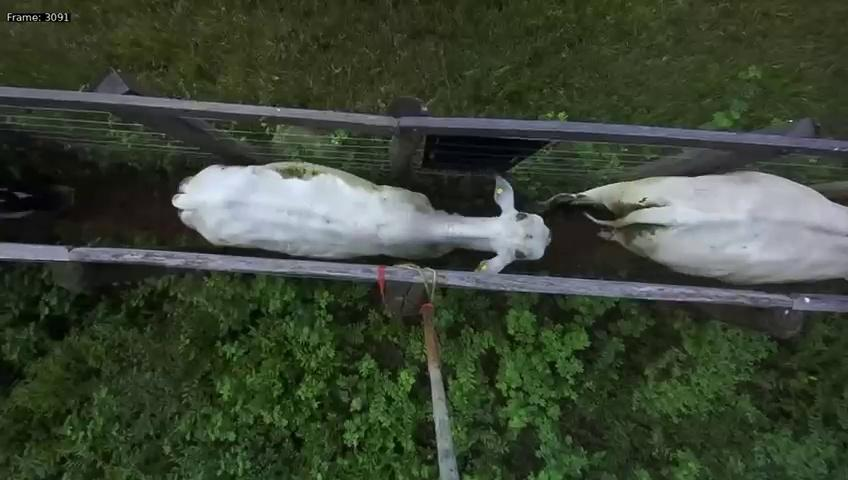cattle: (169, 158, 552, 273)
